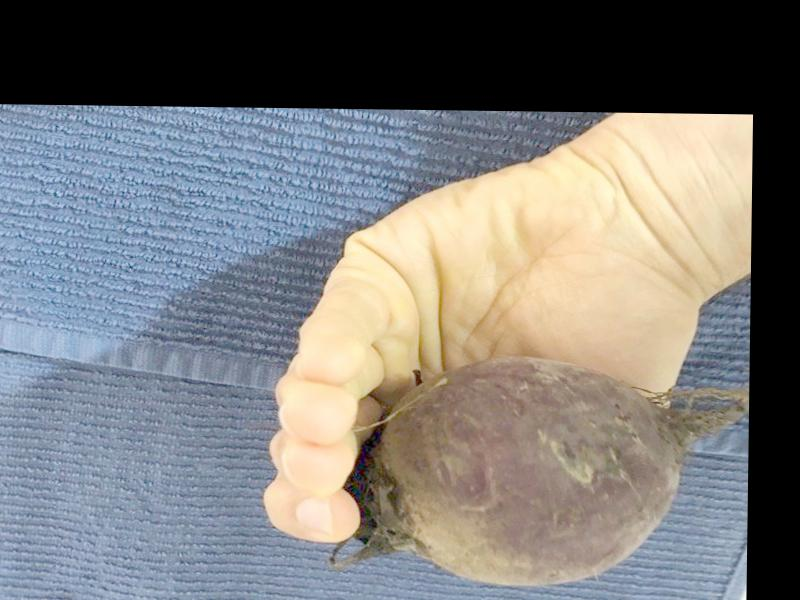Beet: (323, 352, 745, 587)
